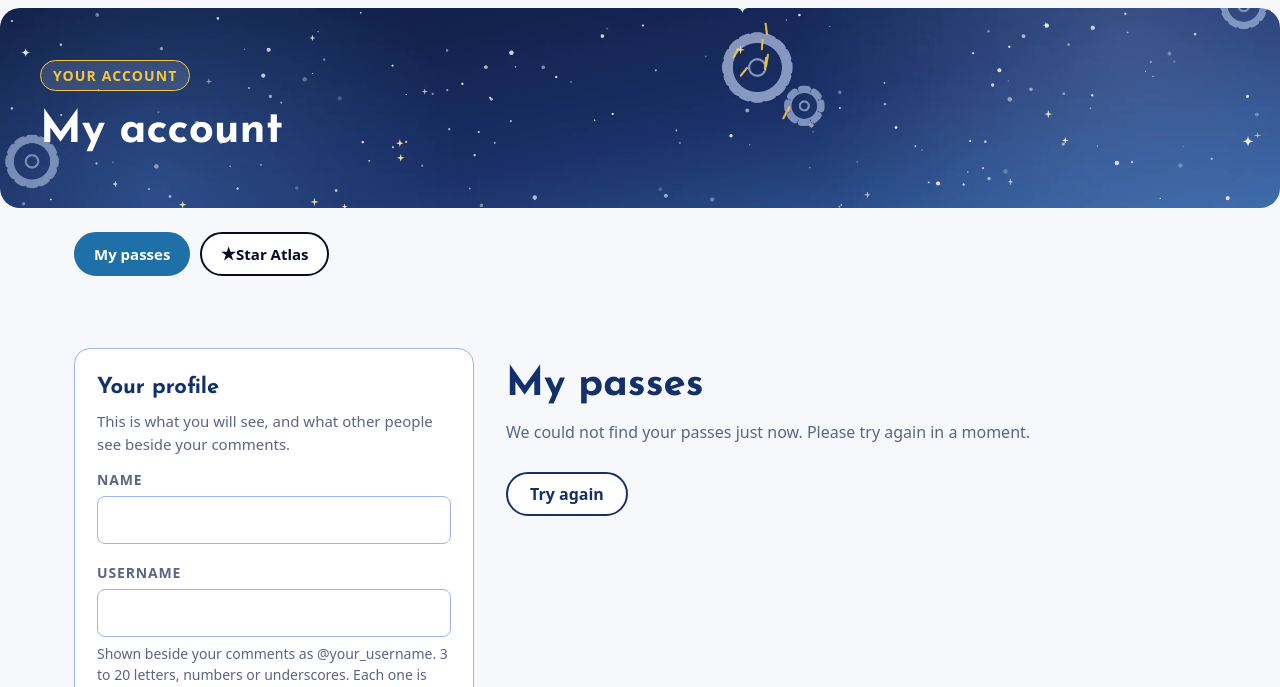
Test: who sees it › says kindly, with a way to try again, when it cannot find the passes
The image size is (1280, 687).
Expected: the text "could not find your passes just now" is shown, x1=506 y1=421 x2=1030 y2=443
Click the button "Try again".
click(567, 494)  # box x1=506 y1=472 x2=628 y2=516
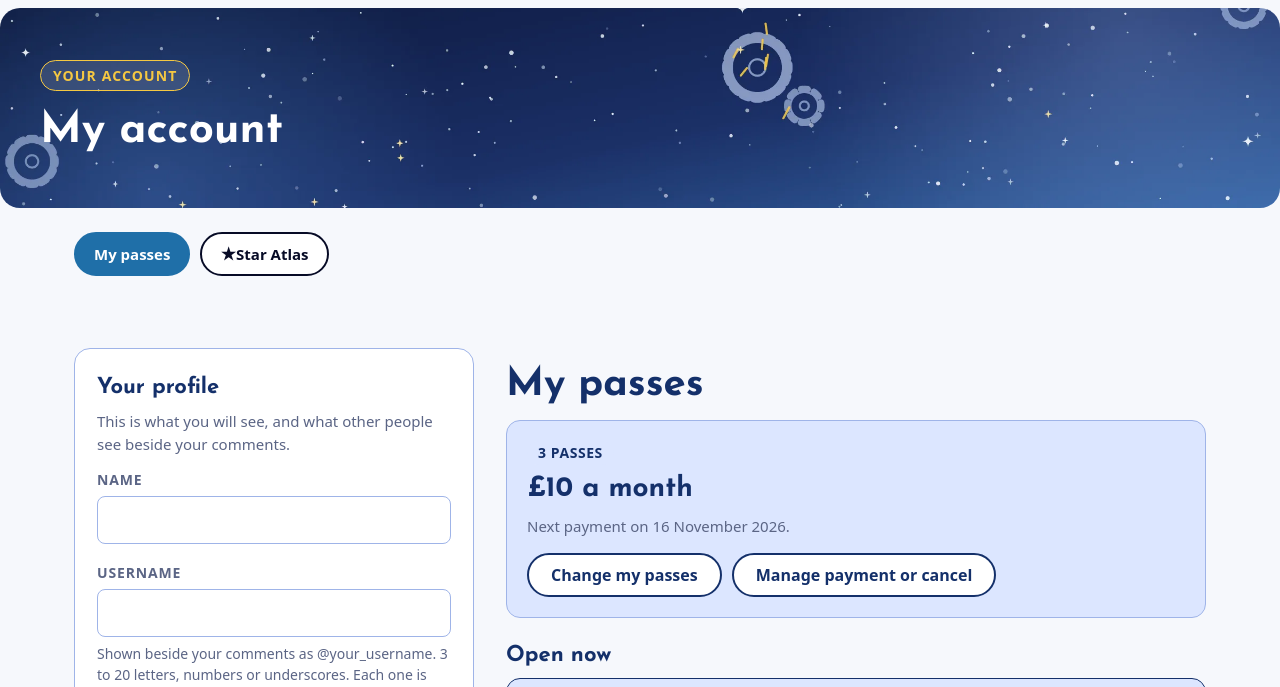
Now the heading "Open now" is shown, box x1=506 y1=644 x2=611 y2=667
